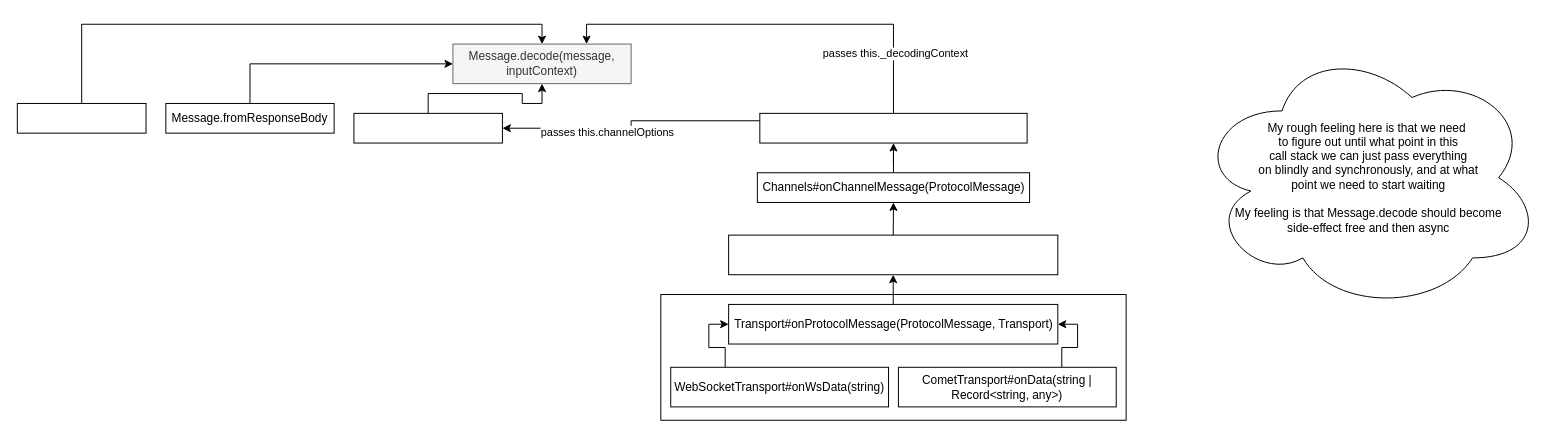
Some shapes in this 1559 by 438 pixel diagram are drawn without their labels. Each missing label, with the centre of its shape:
"ConnectionManager#onChannelMessage(ProtocolMessage, Transport)" goes at pixel 893 254.
"Message.fromEncoded" goes at pixel 81 117.
"PresenceMessage.decode" goes at pixel 427 127.
"RealtimeChannel#onMessage(ProtocolMessage)" goes at pixel 893 127.
